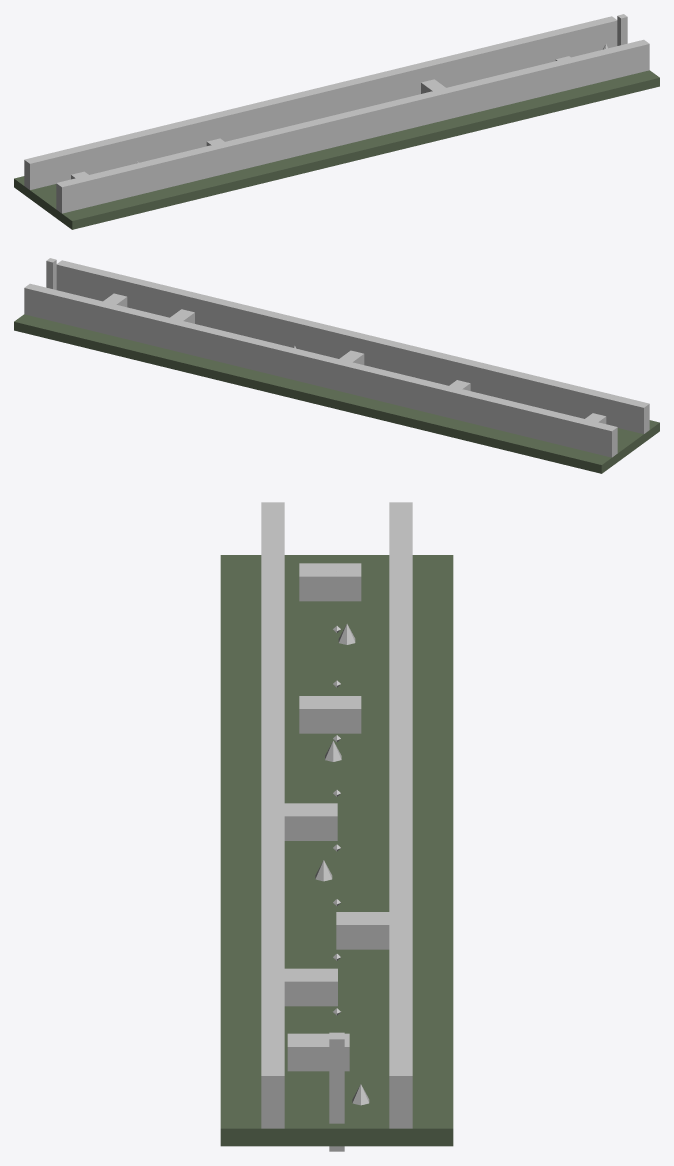
The model's file is layout_main.obj.
3 views of the same model, one above another, from view 1: azimuth 30°, elevation 25°; view 2: azimuth 150°, elevation 25°; view 3: azimuth 270°, elevation 25° (orthographic). The views are drawn at different scales.
Parts seen in each view (by area): view 1: walls, floor, obstacles, goal; view 2: walls, floor, obstacles, goal; view 3: floor, walls, obstacles, goal.
Boxes of the visible parts, <box> form: walls: <box>24,16,649,213</box>; floor: <box>14,70,659,229</box>; obstacles: <box>71,44,608,179</box>; goal: <box>617,14,627,45</box>; walls: <box>24,260,649,457</box>; floor: <box>14,314,659,473</box>; obstacles: <box>103,293,606,423</box>; goal: <box>46,258,56,289</box>; floor: <box>220,555,453,1146</box>; walls: <box>261,502,412,1128</box>; obstacles: <box>284,563,389,1105</box>; goal: <box>329,1032,344,1151</box>.
Size of the model in its own units: 70 by 6.4 by 12.
